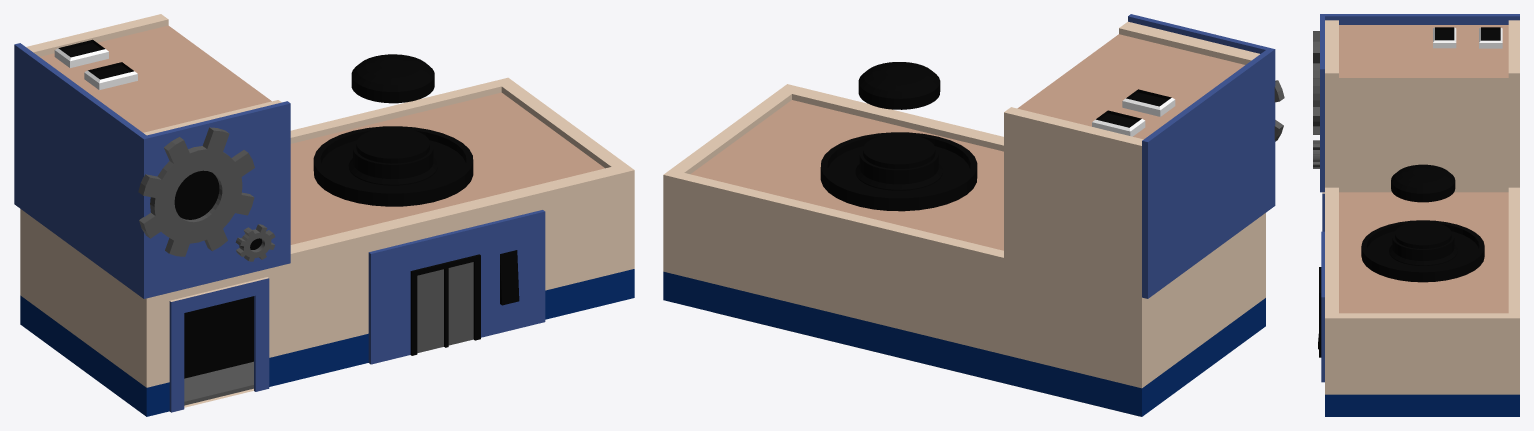
File: Laboratory.fbx
3 views of the same model, side by side, from view 1: azimuth 30°, elevation 25°; view 2: azimuth 150°, elevation 25°; view 3: azimuth 270°, elevation 25° (orthographic). The views are drawn at different scales.
Parts seen in each view (by area): view 1: Buil, Stand, Cog1, Cube, Cog2; view 2: Buil, Stand; view 3: Buil, Stand, Cog1, Cog2.
Boxes of the visible parts, <box> form: Buil: <box>14,14,634,416</box>; Stand: <box>313,54,473,206</box>; Cog1: <box>138,127,254,256</box>; Cube: <box>184,361,253,405</box>; Cog2: <box>235,224,275,261</box>; Buil: <box>663,14,1275,416</box>; Stand: <box>820,62,977,211</box>; Buil: <box>1318,14,1519,416</box>; Stand: <box>1361,164,1484,282</box>; Cog1: <box>1313,31,1319,134</box>; Cog2: <box>1313,140,1319,168</box>.
Size of the model in its own units: 1809 by 976 by 842.
